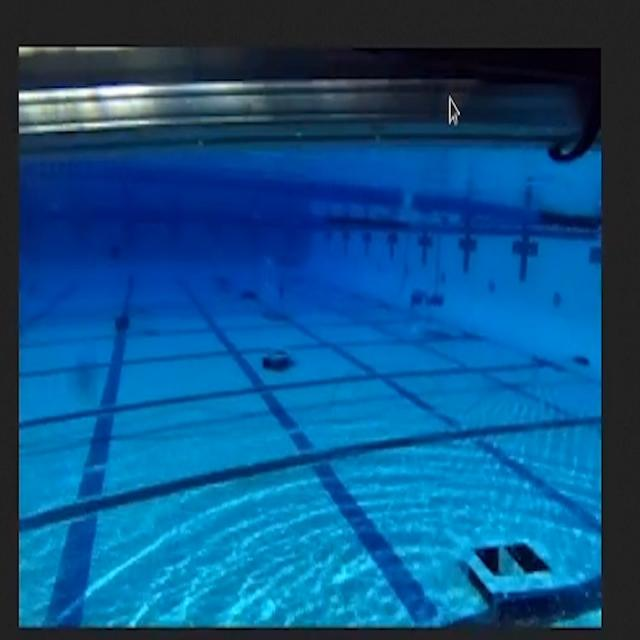Bin: (435, 498, 570, 628)
